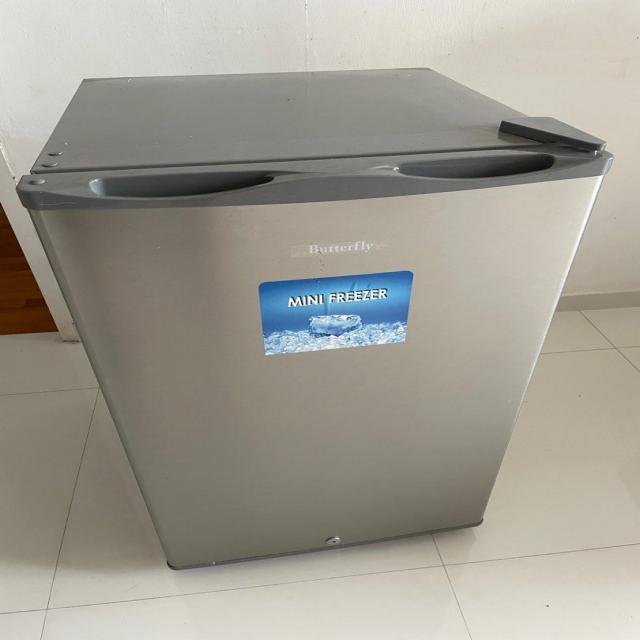refrigerator: (58, 86, 542, 558)
